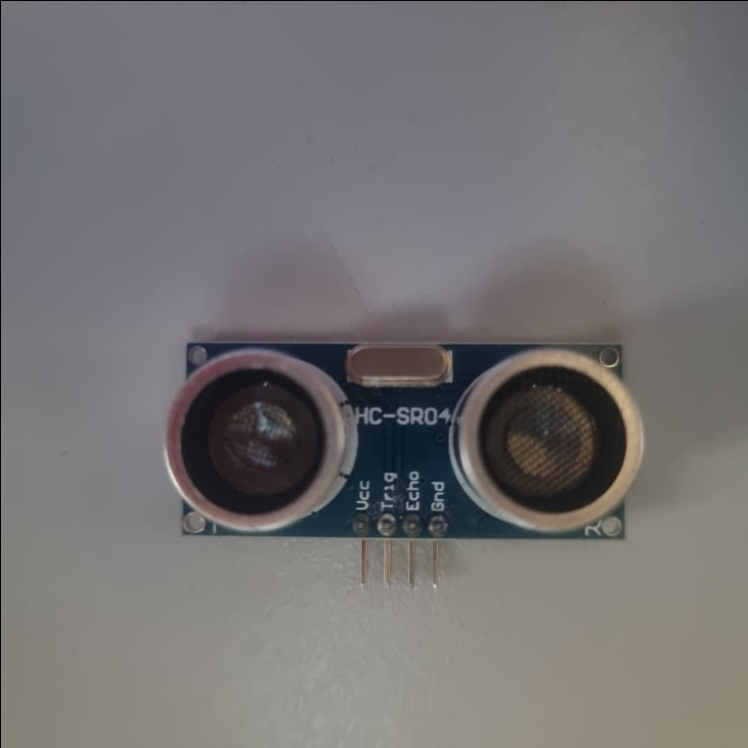SENSOR: (157, 335, 645, 590)
